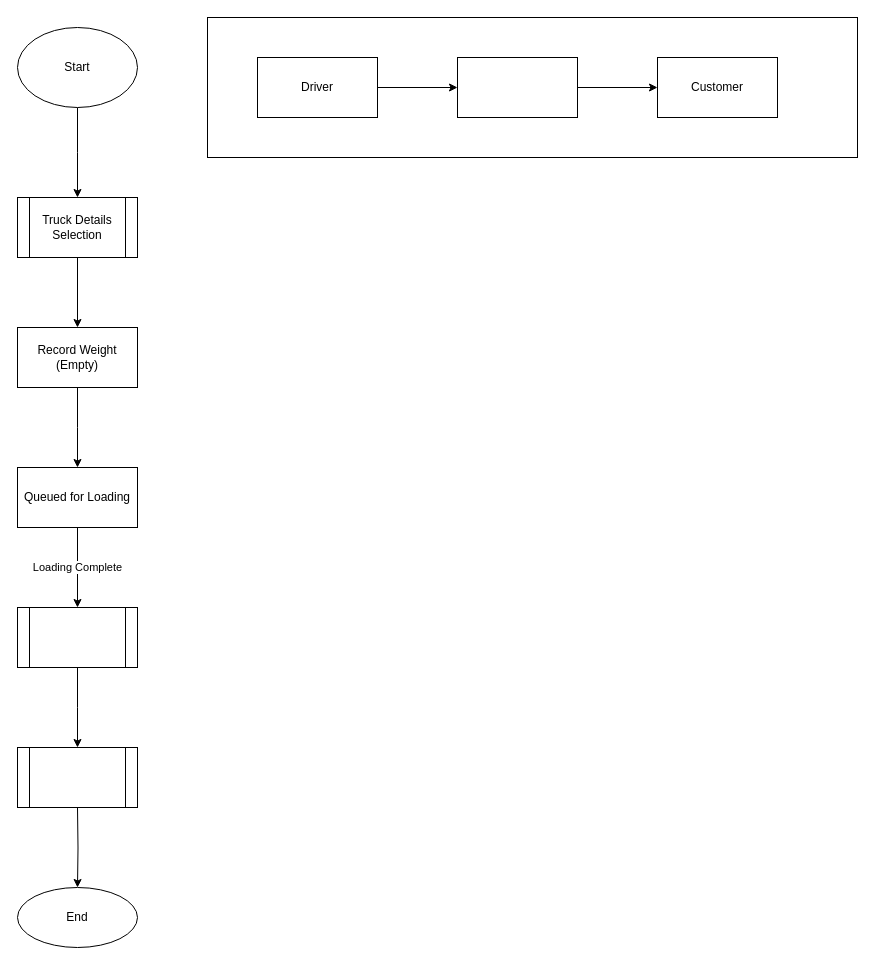
This 875x965 diagram has some shape labels left out. Here are the shapes that lost their labels. From the top down, the centre of each, then its label:
At (517,87): "Truck".
At (77,637): "Delivery Details Selection".
At (77,777): "Checkout".
